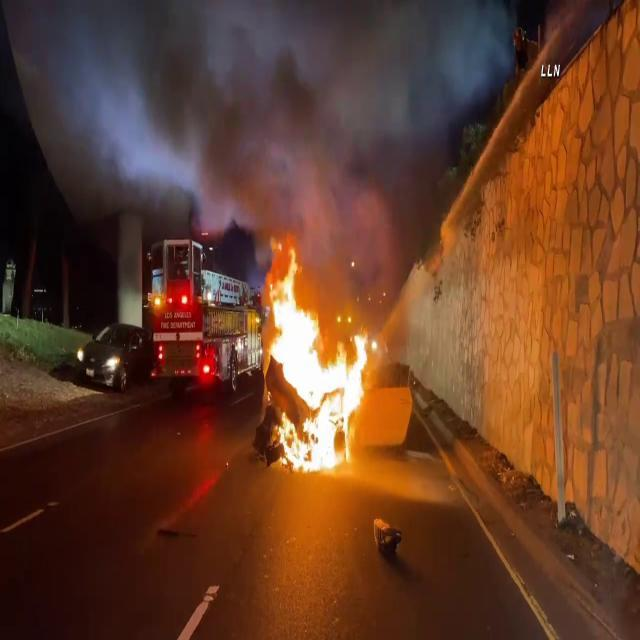Fire: (261, 236, 376, 472)
Smoke: (82, 0, 504, 230)
